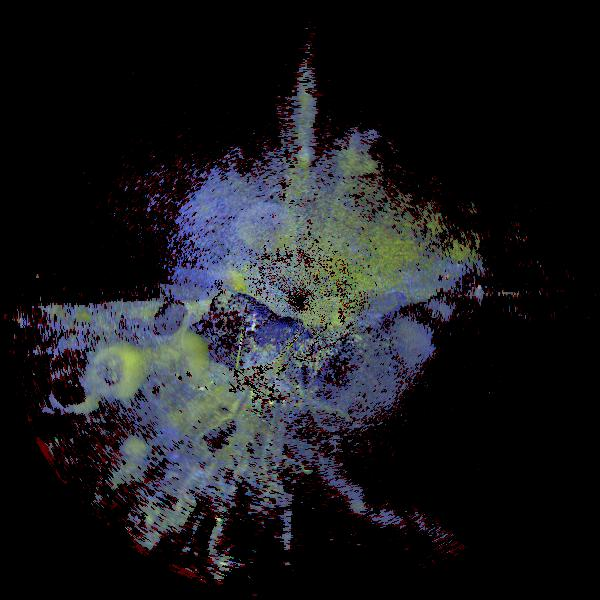roost: (139, 328, 211, 400), (233, 196, 302, 265), (84, 342, 147, 405), (41, 360, 104, 423), (109, 428, 145, 464)
